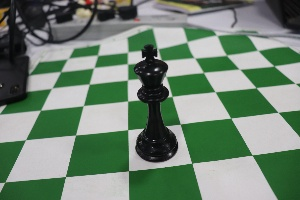black_king: (121, 32, 182, 164)
